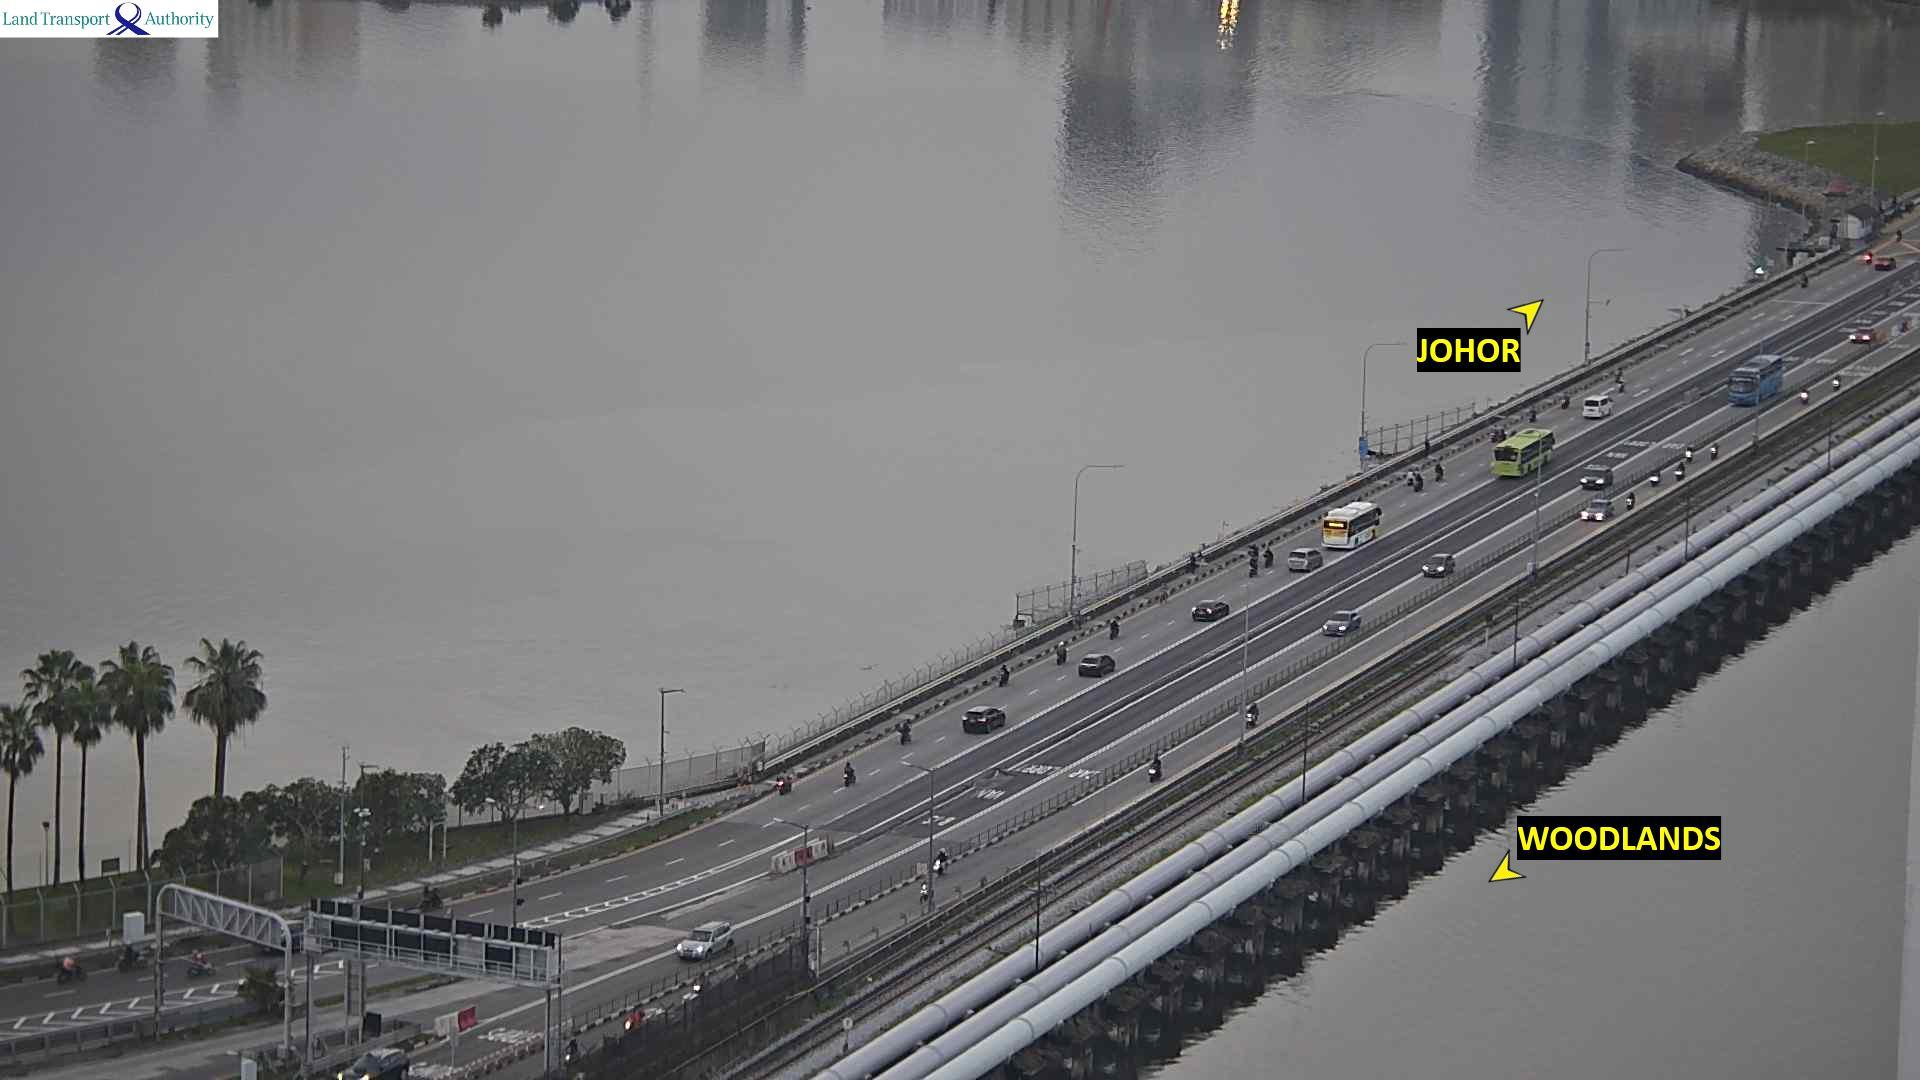vehicle-causeway-johor: (1321, 502, 1382, 547), (964, 705, 1005, 735), (1079, 653, 1116, 676), (1290, 547, 1321, 571), (1193, 599, 1229, 620), (58, 957, 83, 981), (120, 944, 146, 967), (1582, 397, 1611, 417), (189, 952, 211, 976), (422, 885, 444, 906), (898, 721, 913, 744), (1054, 641, 1067, 665), (777, 771, 793, 791), (844, 762, 856, 785), (1615, 371, 1626, 393), (1876, 257, 1896, 269), (1109, 620, 1121, 638), (1265, 546, 1274, 567), (998, 665, 1007, 684), (1412, 473, 1423, 489), (1799, 273, 1811, 284), (1435, 463, 1443, 479), (1863, 251, 1873, 264), (1527, 406, 1535, 419), (1561, 396, 1569, 405)
vehicle-causeway-singapore: (1498, 433, 1560, 480), (1729, 355, 1782, 404), (335, 1047, 407, 1080), (671, 926, 737, 961), (1323, 611, 1365, 634), (1422, 554, 1456, 575), (1580, 500, 1611, 521), (1581, 467, 1613, 484), (1850, 328, 1876, 342), (1149, 754, 1162, 779), (935, 848, 947, 872), (1247, 702, 1258, 727), (1625, 493, 1635, 509), (1650, 468, 1660, 484), (1710, 443, 1720, 460), (920, 880, 927, 901), (1684, 448, 1695, 460), (1676, 463, 1684, 477), (1800, 390, 1808, 405), (1832, 376, 1840, 390)
